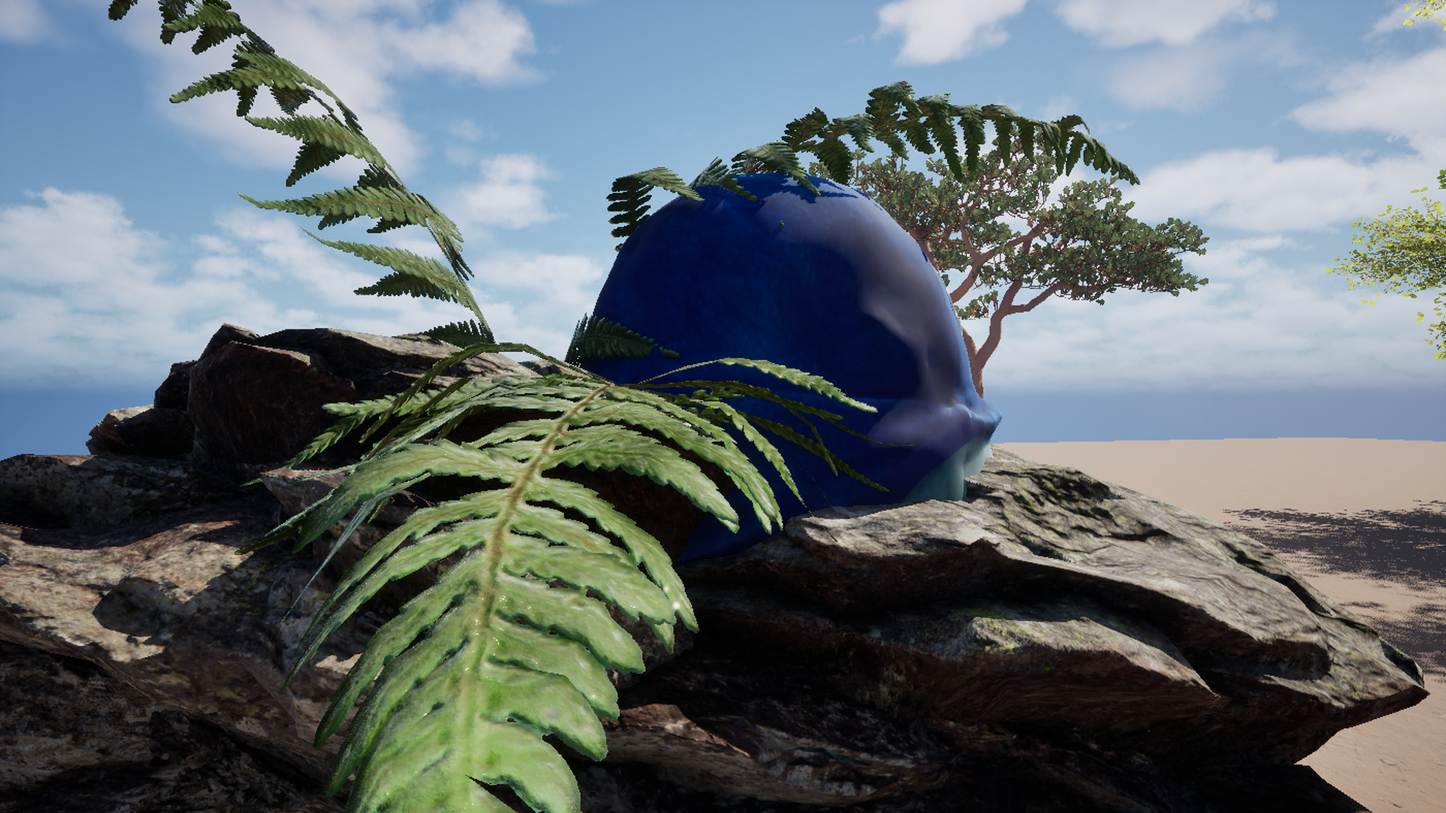Piplup: (356, 0, 1223, 813)
